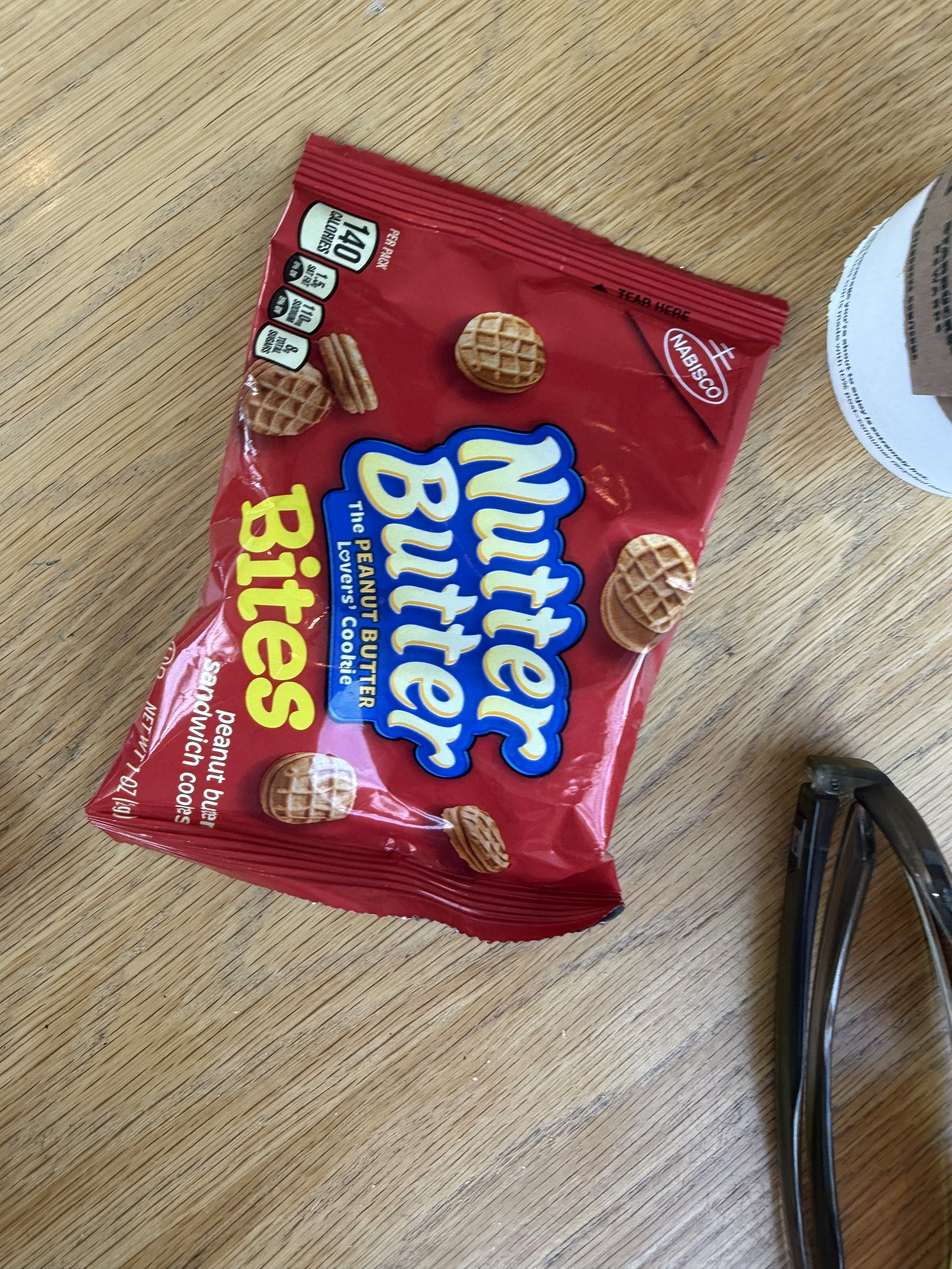nutter_butter: (317, 137, 821, 869)
